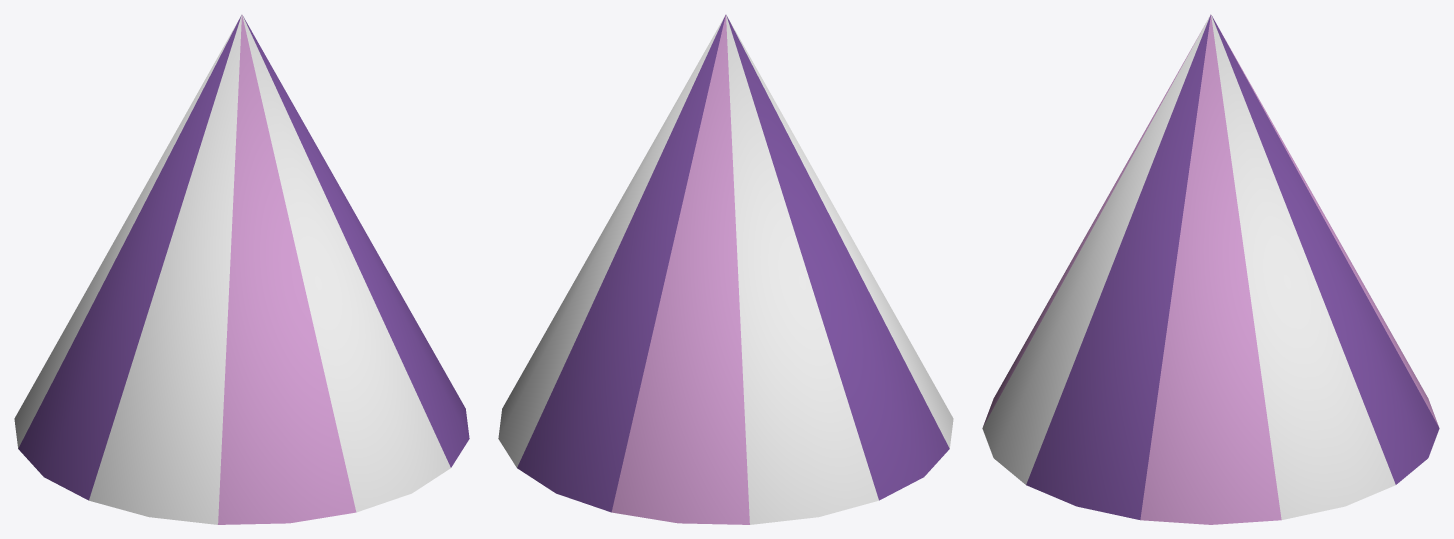
The model's file is PartyHat.fbx.
The picture shows the model from 3 angles, left to right: view 1: azimuth 30°, elevation 25°; view 2: azimuth 150°, elevation 25°; view 3: azimuth 270°, elevation 25°; orthographic projection.
Parts seen in each view (by area): view 1: pCone1; view 2: pCone1; view 3: pCone1.
Boxes of the visible parts, left/top/right/bottom form: pCone1: left=14, top=14, right=469, bottom=524; pCone1: left=498, top=14, right=953, bottom=524; pCone1: left=982, top=14, right=1439, bottom=524.
Bounding box in the file's own units: 4 × 4 × 4.
